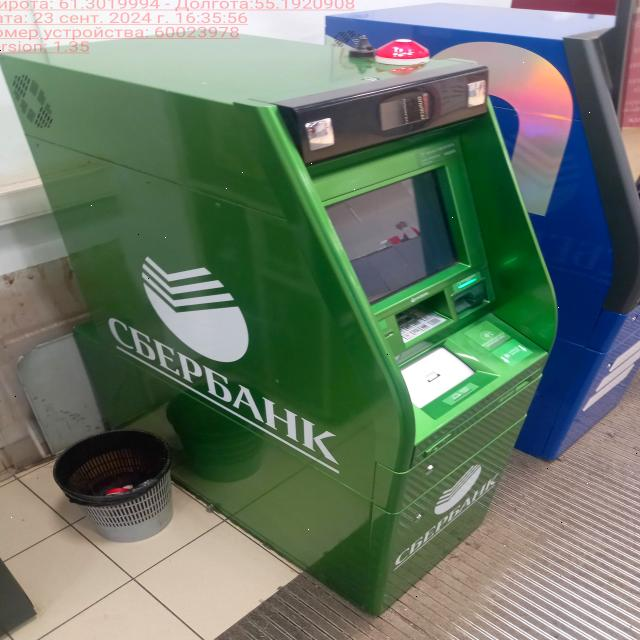bank: (0, 26, 563, 619)
